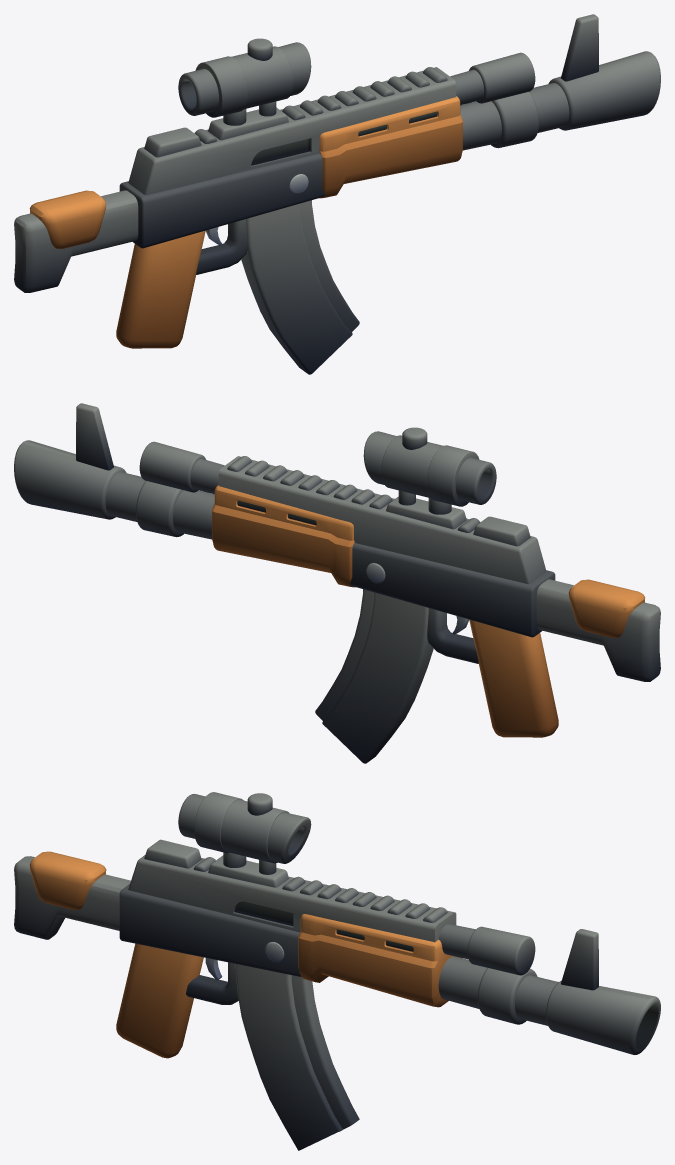
The model's file is AKToon.obj.
The picture shows the model from 3 angles, top to bottom: view 1: azimuth 30°, elevation 25°; view 2: azimuth 150°, elevation 25°; view 3: azimuth 330°, elevation 25°; orthographic projection.
Parts seen in each view (by area): view 1: Cube_Cube.002; view 2: Cube_Cube.002; view 3: Cube_Cube.002.
Part boxes in pixels (x1=…): Cube_Cube.002: x1=14, y1=14, x2=660, y2=374; Cube_Cube.002: x1=14, y1=403, x2=660, y2=763; Cube_Cube.002: x1=14, y1=792, x2=660, y2=1150.
Bounding box in the file's own units: 10 × 5.1 × 0.8642.
